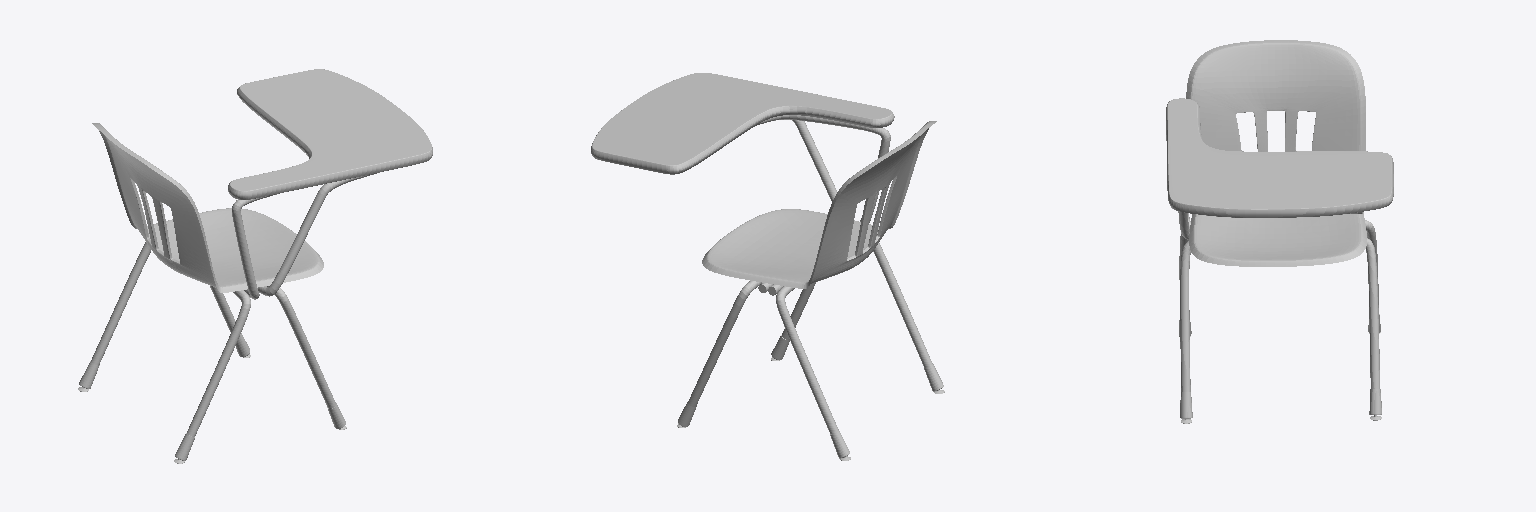
Rendered from desk.obj.
The picture shows the model from 3 angles: view 1: azimuth 30°, elevation 25°; view 2: azimuth 150°, elevation 25°; view 3: azimuth 270°, elevation 25°; orthographic projection.
Bounding box in the file's own units: 73.87 × 73.18 × 51.44.